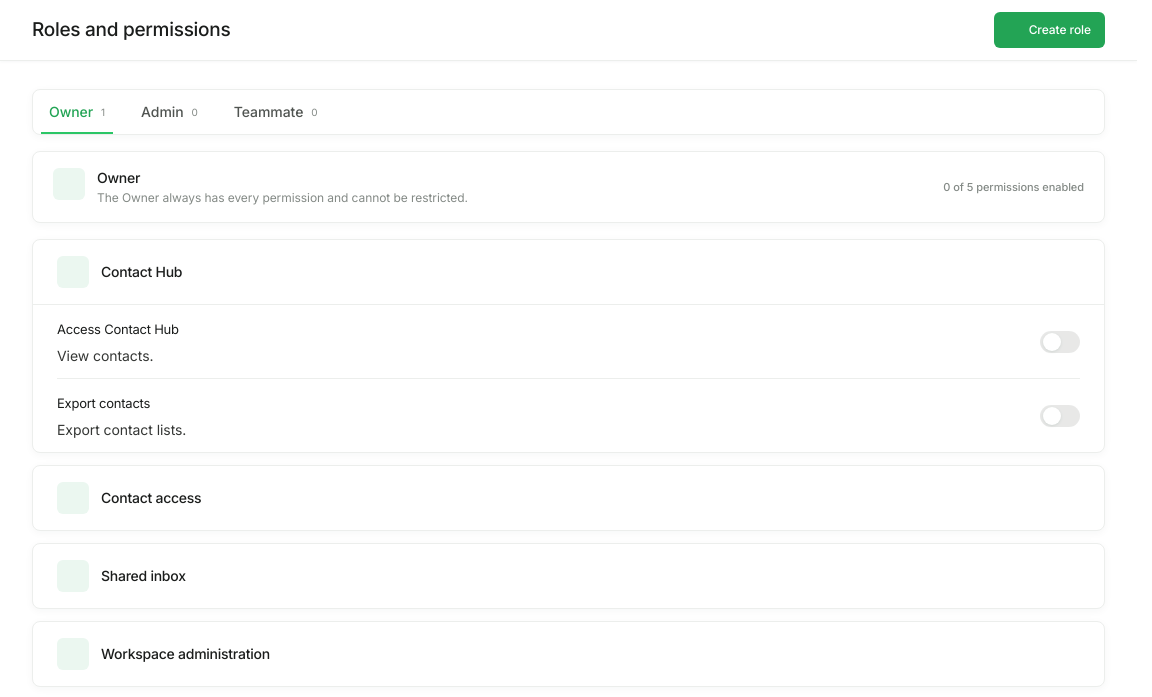
Scenario: RoleManagement › opens contact access and shared inbox permissions from dropdown headers
Click the button "Contact access".
click(73, 498)  # box [33,466,1104,530]
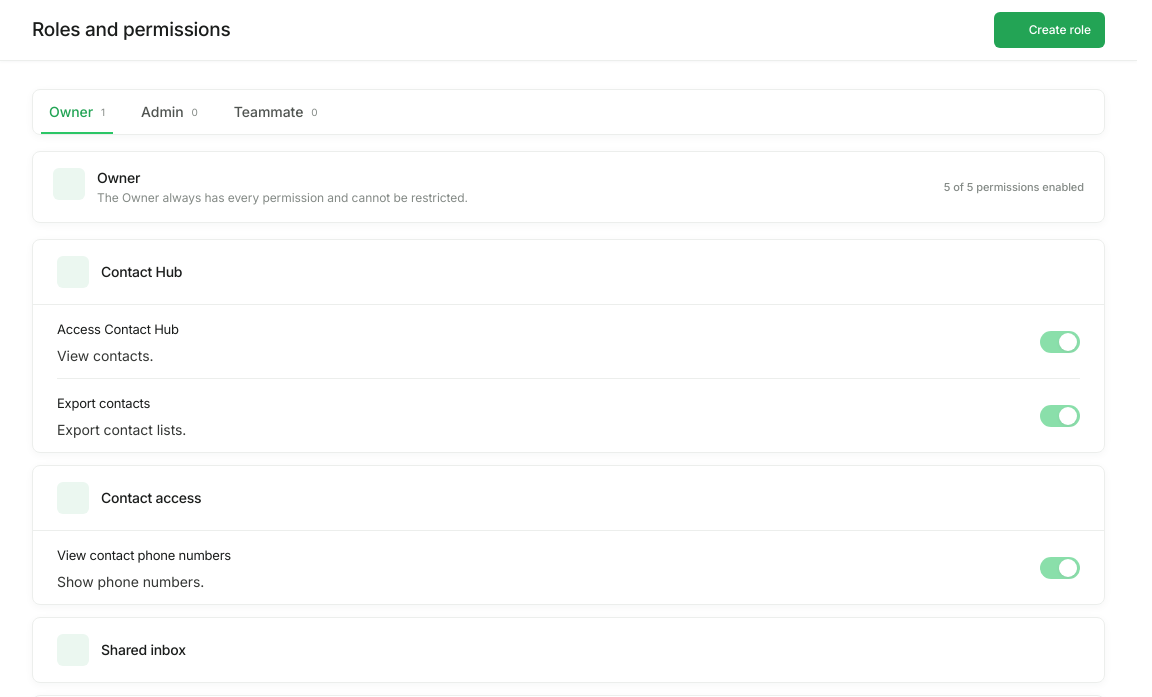
Click the button "Shared inbox".
click(73, 650)  # box [33,618,1104,682]
(page scrolled)
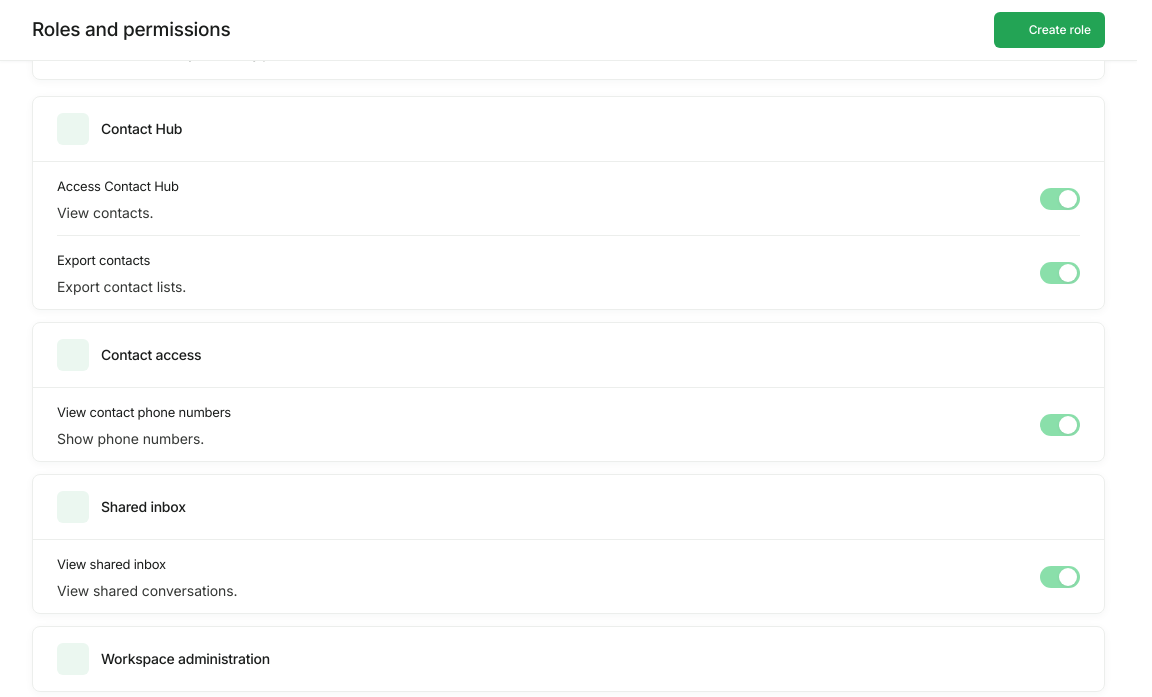
expect the button "Contact access" is expanded: met, box [33,323,1104,387]
expect the switch named "View contact phone numbers for Owner" is checked: met, box [1040,414,1080,436]
expect the button "Shared inbox" is expanded: met, box [33,475,1104,539]
